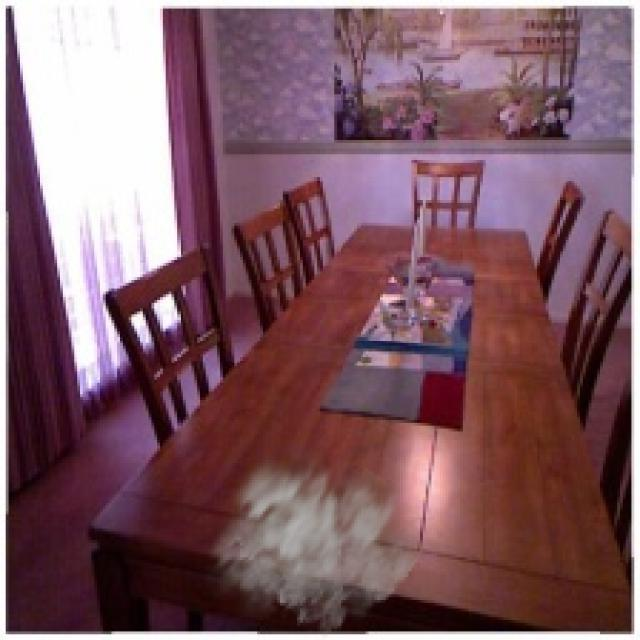Smoke: (200, 428, 432, 638)
